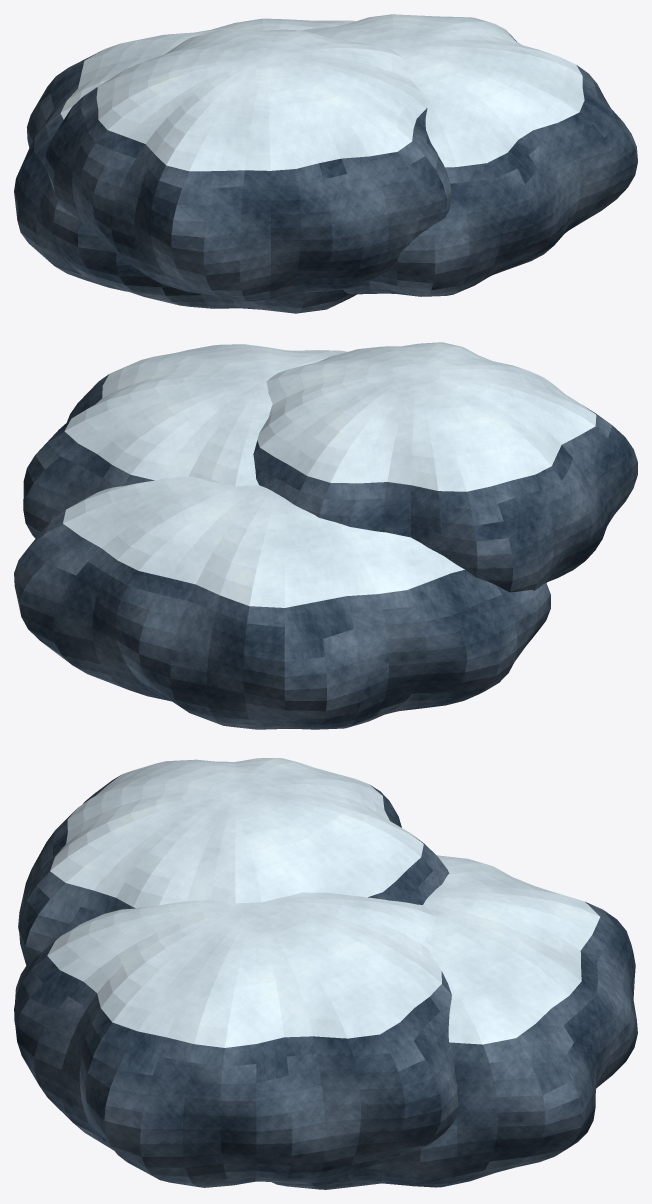
The model's file is FirstRoom_SnowBoulder.fbx.
3 views of the same model, one above another, from view 1: azimuth 30°, elevation 25°; view 2: azimuth 150°, elevation 25°; view 3: azimuth 270°, elevation 25° (orthographic). The views are drawn at different scales.
Parts seen in each view (by area): view 1: WO_FirstRoom_SnowBoulder_LOD0; view 2: WO_FirstRoom_SnowBoulder_LOD0; view 3: WO_FirstRoom_SnowBoulder_LOD0.
Part boxes in pixels (box(x1,y1,x2,y2)): WO_FirstRoom_SnowBoulder_LOD0: box(14, 14, 637, 313); WO_FirstRoom_SnowBoulder_LOD0: box(14, 342, 637, 729); WO_FirstRoom_SnowBoulder_LOD0: box(14, 758, 637, 1189).
Size of what is drawn, in the model's own units: 6 by 3.14 by 5.68.
